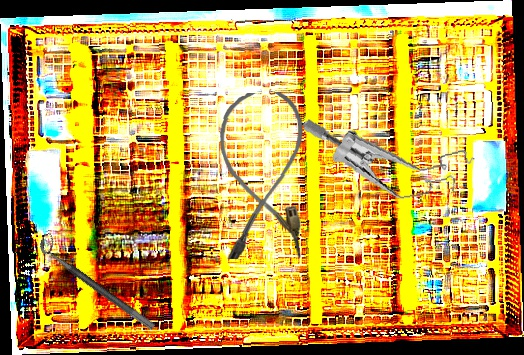Cannula: (219, 91, 305, 260)
Fixation Ring: (36, 231, 163, 332)
Speculum: (302, 93, 480, 216)
